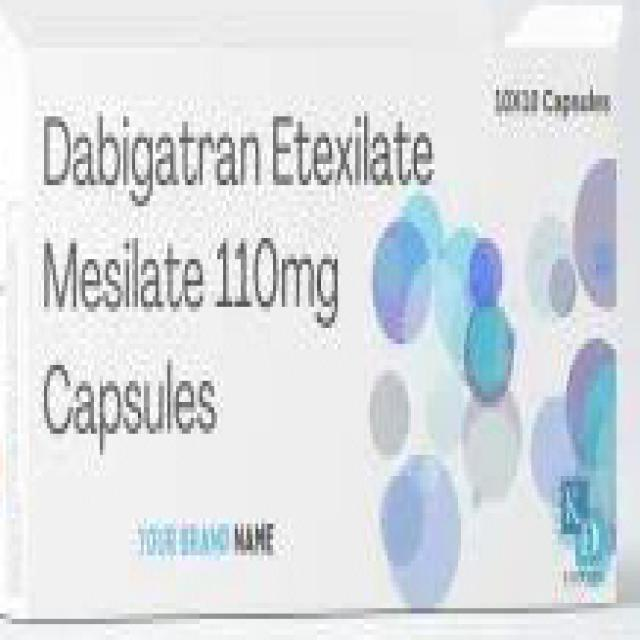drug-name: (131, 518, 277, 564)
